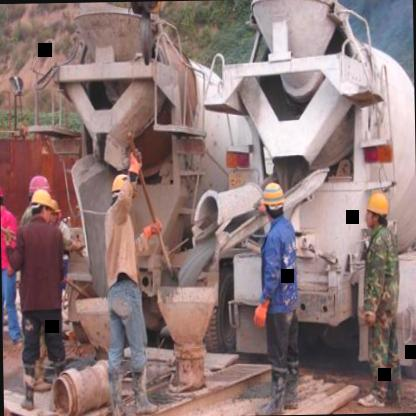helmet: (108, 167, 134, 214), (363, 188, 390, 232), (256, 182, 286, 220), (28, 188, 51, 224), (26, 172, 51, 200), (0, 178, 6, 213)
